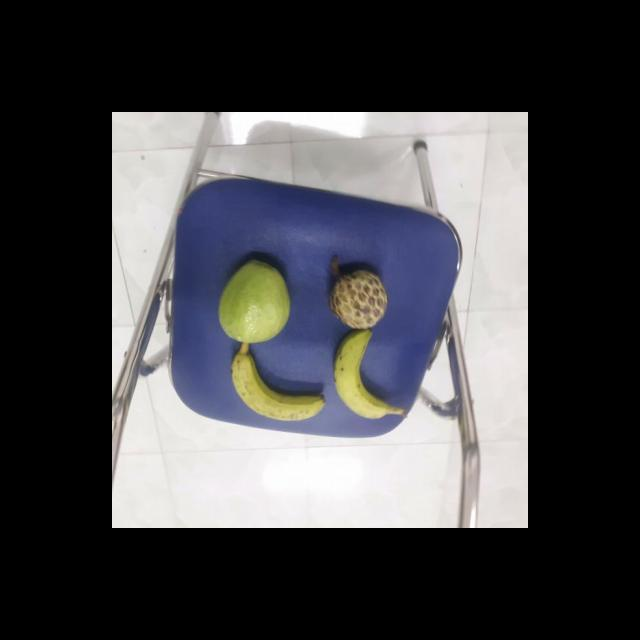Sakya fruit: (327, 268, 388, 329)
banana: (228, 346, 324, 421), (329, 328, 396, 418)
guava: (213, 259, 290, 344)
